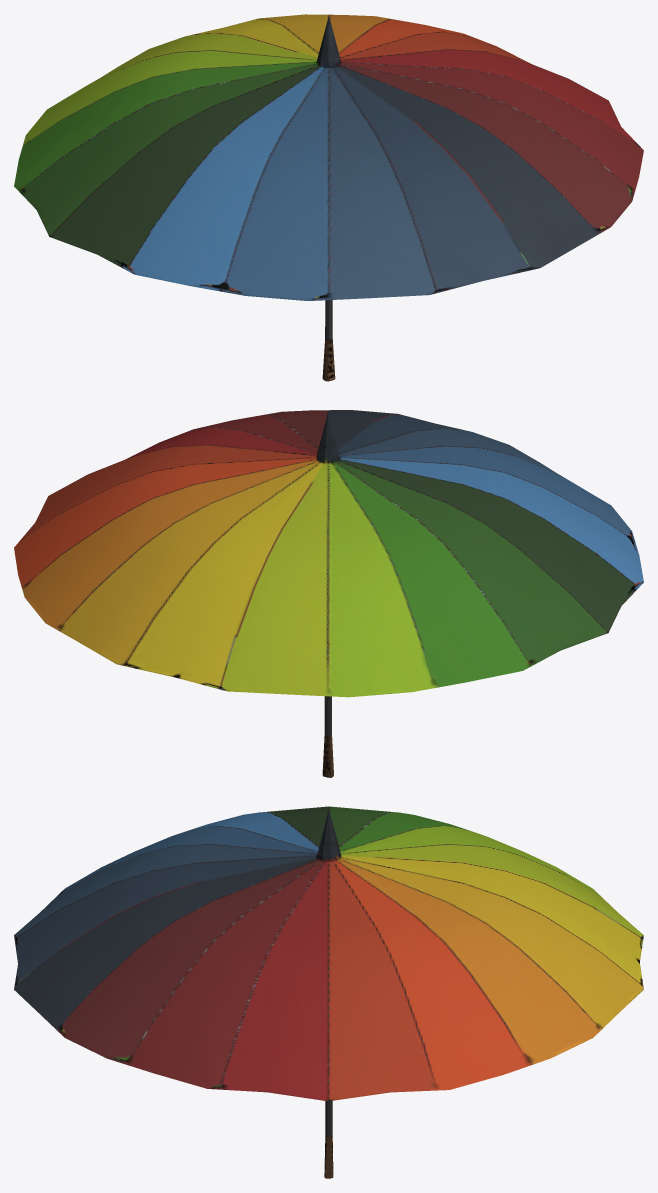
Rendered from umbrella_setuped.fbx.
3 renders of one model, top to bottom at view 1: azimuth 30°, elevation 25°; view 2: azimuth 150°, elevation 25°; view 3: azimuth 270°, elevation 25°, orthographic.
Parts seen in each view (by area): view 1: Umbrella; view 2: Umbrella; view 3: Umbrella.
Part boxes in pixels (left/top/right/bottom): Umbrella: left=14, top=14, right=643, bottom=381; Umbrella: left=14, top=410, right=643, bottom=777; Umbrella: left=14, top=806, right=643, bottom=1178.
Size of what is drawn, in the model's own units: 744 by 462 by 718.
Materials: 1 (1 with a texture image).
